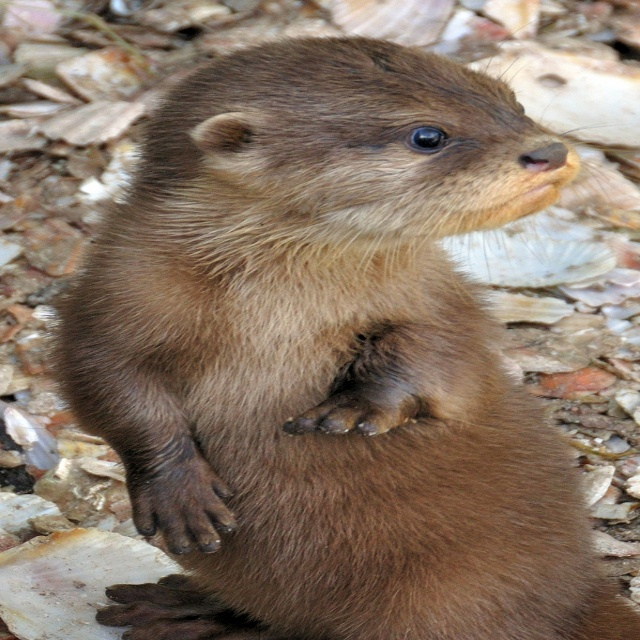Otter: (36, 28, 639, 624)
